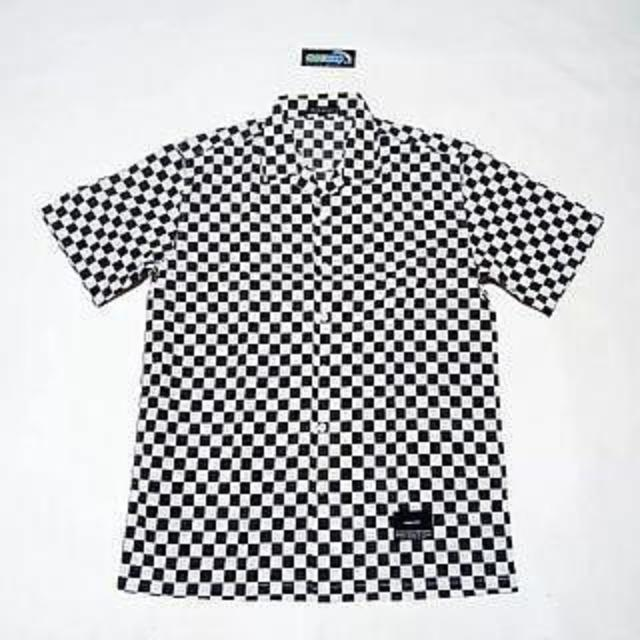SHIRT: (27, 82, 627, 613)
